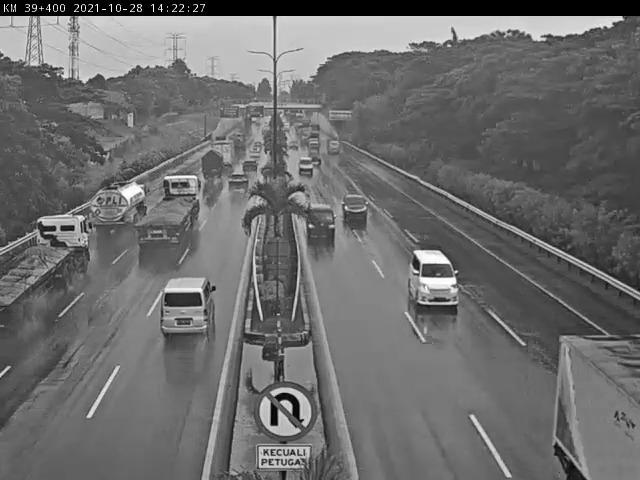big truck: (18, 205, 88, 286), (155, 177, 195, 245), (211, 139, 234, 167)
car: (155, 267, 220, 350), (407, 247, 463, 315), (305, 198, 337, 240), (335, 184, 367, 218), (294, 153, 315, 178), (224, 175, 248, 196), (239, 161, 264, 178), (247, 146, 262, 162), (251, 140, 264, 155)
small truck: (547, 330, 640, 480), (104, 173, 153, 225), (198, 153, 223, 186)
